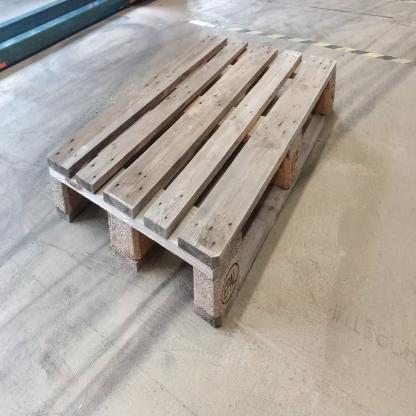BoxFace: (44, 29, 339, 334)
